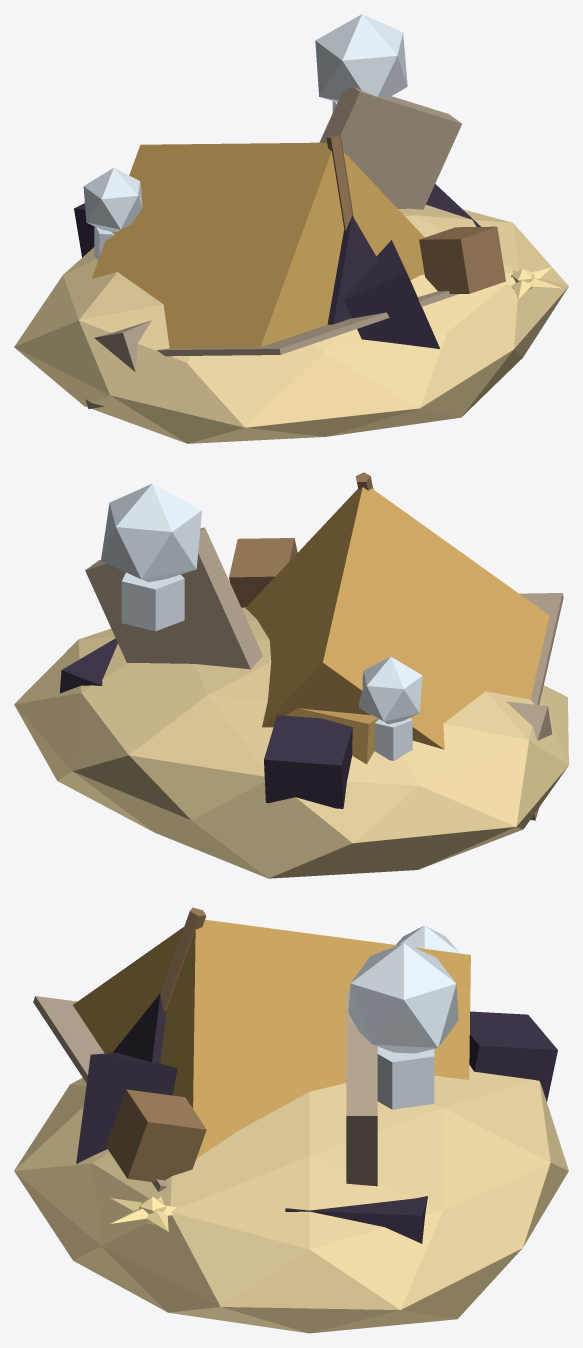
The model's file is sand-ruin.glb.
3 renders of one model, top to bottom at view 1: azimuth 30°, elevation 25°; view 2: azimuth 150°, elevation 25°; view 3: azimuth 270°, elevation 25°, orthographic. The views are drawn at different scales.
Visible parts, largest first — view 1: sand-ruin; view 2: sand-ruin; view 3: sand-ruin.
Part boxes in pixels (box(x1,y1,x2,y2)): sand-ruin: box(14, 14, 568, 443); sand-ruin: box(14, 472, 568, 878); sand-ruin: box(14, 907, 568, 1333).
Size of the model in its own units: 1.26 by 0.7194 by 1.06.
